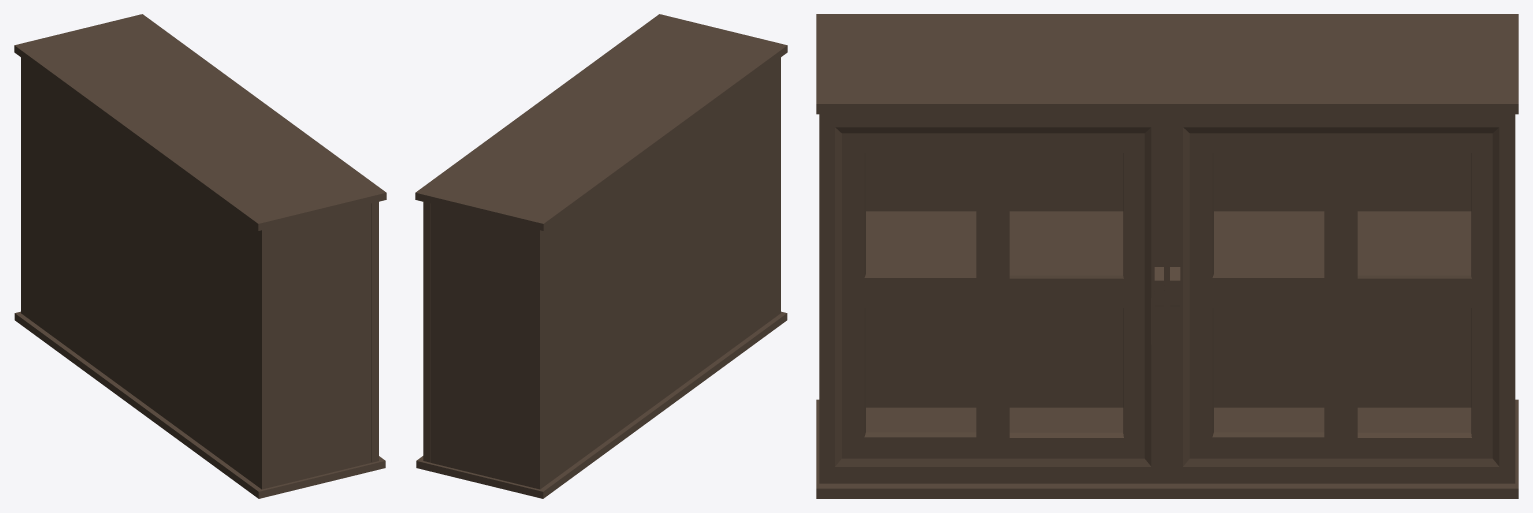
Rendered from low_poly_cabinet.fbx.
3 renders of one model, left to right at view 1: azimuth 30°, elevation 25°; view 2: azimuth 150°, elevation 25°; view 3: azimuth 270°, elevation 25°, orthographic. The views are drawn at different scales.
Visible parts, largest first — view 1: pCube4, pCube5, pCube6, pCube8; view 2: pCube4, pCube5, pCube6, pCube10; view 3: pCube8, pCube10, pCube4, pCube5, pCube7, pCube6.
Boxes of the visible parts, bbox=[...] form: pCube4: bbox=[21, 57, 371, 489]; pCube5: bbox=[14, 14, 386, 230]; pCube6: bbox=[14, 311, 385, 498]; pCube8: bbox=[371, 202, 378, 462]; pCube4: bbox=[430, 57, 780, 489]; pCube5: bbox=[415, 14, 787, 230]; pCube6: bbox=[416, 311, 787, 498]; pCube10: bbox=[423, 202, 430, 462]; pCube8: bbox=[819, 114, 1167, 483]; pCube10: bbox=[1167, 114, 1515, 483]; pCube4: bbox=[866, 153, 1471, 407]; pCube5: bbox=[816, 14, 1518, 114]; pCube7: bbox=[866, 211, 1471, 275]; pCube6: bbox=[816, 399, 1518, 498].
Bounding box in the file's own units: 172 × 350 × 562.
